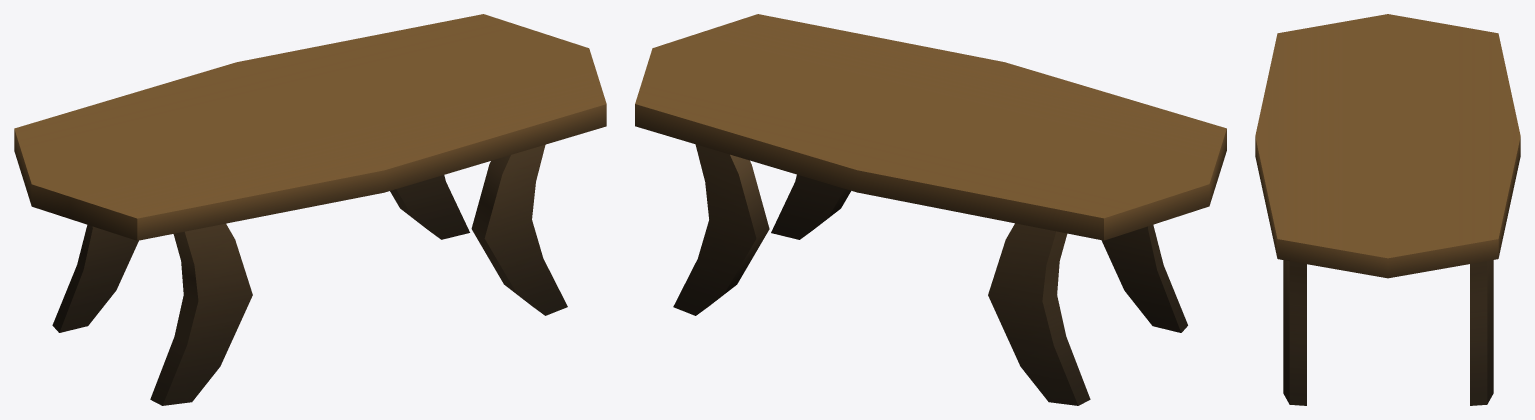
File: tavolino.fbx
3 renders of one model, left to right at view 1: azimuth 30°, elevation 25°; view 2: azimuth 150°, elevation 25°; view 3: azimuth 270°, elevation 25°, orthographic. The views are drawn at different scales.
Parts seen in each view (by area): view 1: SM_tavolino; view 2: SM_tavolino; view 3: SM_tavolino.
Boxes of the visible parts, x1=… form: SM_tavolino: x1=14, y1=14, x2=606, y2=405; SM_tavolino: x1=635, y1=14, x2=1226, y2=405; SM_tavolino: x1=1255, y1=14, x2=1520, y2=405.
Bounding box in the file's own units: 262 × 89.72 × 120.
